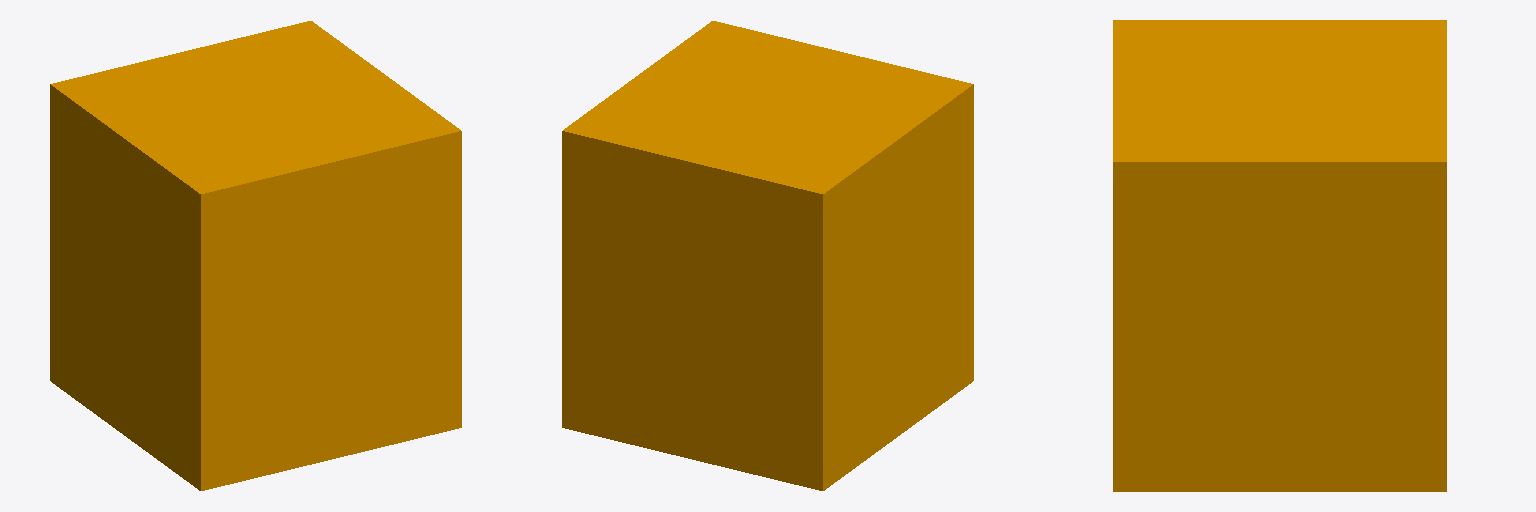
URDF robot description (testRobot):
<?xml version="1.0"?>
<robot name="testRobot">
  <link name="link_0">
    <visual>
      <origin rpy="0 0 0" xyz="0 0 -0.087"/>
      <geometry>
        <box size="1 1 1"/>
      </geometry>
    </visual>
    <visual>
      <origin rpy="0 0 0" xyz="0 0 0"/>
      <geometry>
        <box size="1 1 1"/>
      </geometry>
    </visual>
  </link>
  <joint name="0_to_1" type="revolute">
    <parent link="link_0"/>
    <child link="link_1"/>
    <limit effort="2.5" lower="-3.14159265359"
           upper="3.14159265359" velocity="3.00545697193"/>
    <axis xyz="0 0 1"/>
    <dynamics damping="1.2" friction="2.3"/>
  </joint>
  <link name="link_1">
    <visual>
      <origin rpy="0 0 0" xyz="0 0 -0.087"/>
      <geometry>
        <box size="1 1 1"/>
      </geometry>
    </visual>
    <visual>
      <origin rpy="0 0 0" xyz="0 0 0"/>
      <geometry>
        <box size="1 1 1"/>
      </geometry>
    </visual>
  </link>
  <joint name="1_to_2" type="continuous">
    <parent link="link_1"/>
    <child link="link_2"/>
    <limit effort="2.5" velocity="3.00545697193"/>
    <axis xyz="0 0 1"/>
    <dynamics damping="1.2" friction="2.3"/>
  </joint>
  <link name="link_2">
    <visual>
      <origin rpy="0 0 0" xyz="0 0 -0.087"/>
      <geometry>
        <box size="1 1 1"/>
      </geometry>
    </visual>
    <visual>
      <origin rpy="0 0 0" xyz="0 0 0"/>
      <geometry>
        <box size="1 1 1"/>
      </geometry>
    </visual>
  </link>
</robot>

--- Render facts (derived) ---
Views: 3 orthographic renders of the robot side by side, from view 1: azimuth 30°, elevation 25°; view 2: azimuth 150°, elevation 25°; view 3: azimuth 270°, elevation 25°.
Model testRobot with 3 links and 2 joints (1 revolute, 1 continuous), rooted at link_0, posed every joint at zero.
Visible links, largest first — view 1: link_0; view 2: link_0; view 3: link_0.
Link boxes in pixels (x1,y1,x2,y2): link_0: (50,21,461,490); link_0: (562,21,973,490); link_0: (1113,20,1446,491).
Size in the robot's own frame: 1 by 1 by 1.09 metres.
Geometry: primitives only (box / cylinder / sphere), no mesh files.